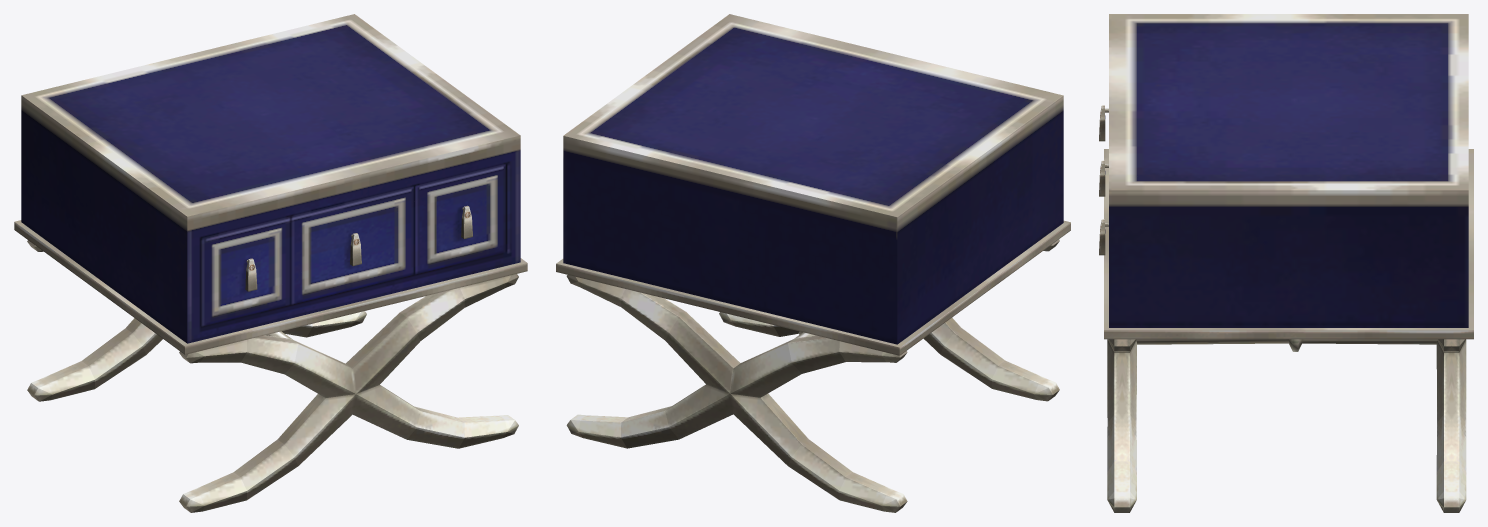
The model's file is furni_0201110.FBX.
The picture shows the model from 3 angles, left to right: view 1: azimuth 30°, elevation 25°; view 2: azimuth 150°, elevation 25°; view 3: azimuth 270°, elevation 25°; orthographic projection. The views are drawn at different scales.
Parts seen in each view (by area): view 1: furni_0201110; view 2: furni_0201110; view 3: furni_0201110.
Boxes of the visible parts, bbox=[...] form: furni_0201110: bbox=[14, 14, 527, 512]; furni_0201110: bbox=[556, 14, 1070, 512]; furni_0201110: bbox=[1099, 14, 1473, 512].
Size of the model in its own units: 59.63 by 50.03 by 52.1.
Materials: 1 (1 with a texture image).
